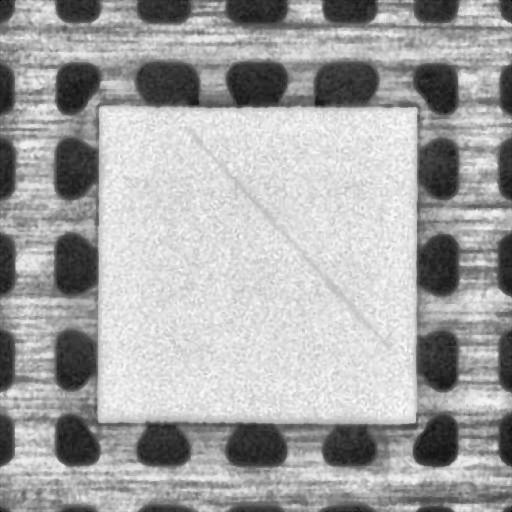DIE_CRACK: (186, 128, 386, 346)
